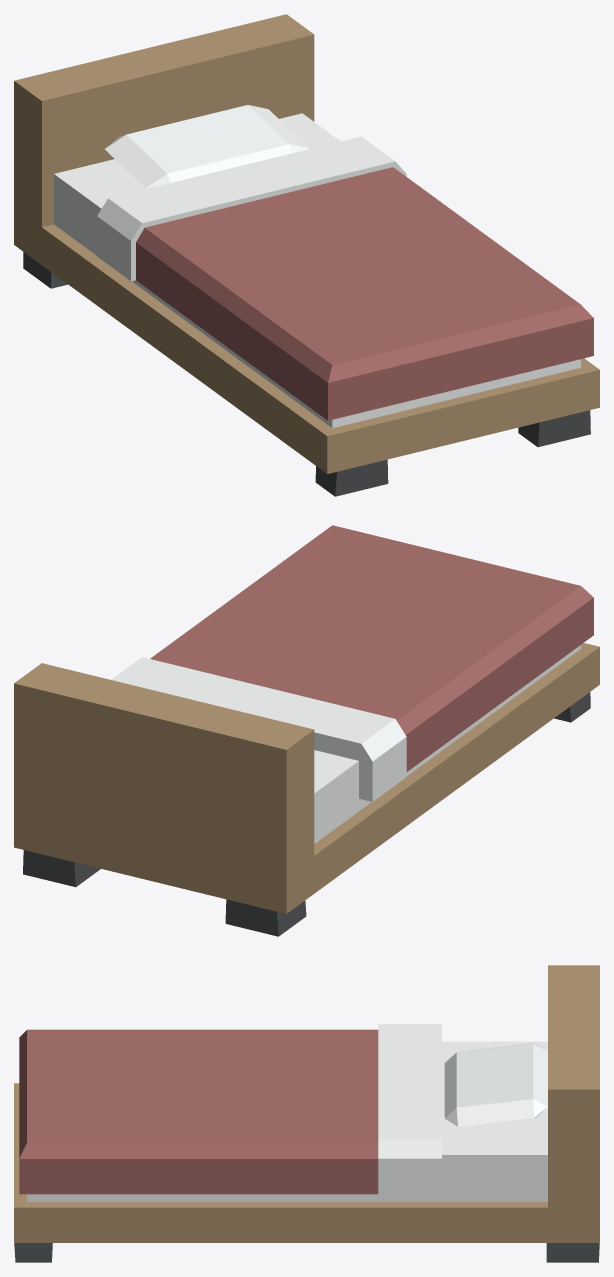
The model's file is bed_single.glb.
3 renders of one model, top to bottom at view 1: azimuth 30°, elevation 25°; view 2: azimuth 150°, elevation 25°; view 3: azimuth 270°, elevation 25°, orthographic. The views are drawn at different scales.
Visible parts, largest first — view 1: bedSingle(Clone); view 2: bedSingle(Clone); view 3: bedSingle(Clone).
Boxes of the visible parts, left/top/right/bottom form: bedSingle(Clone): left=14, top=14, right=599, bottom=496; bedSingle(Clone): left=14, top=525, right=599, bottom=936; bedSingle(Clone): left=14, top=965, right=599, bottom=1262.
Bounding box in the file's own units: 0.8982 × 0.5899 × 1.77.
